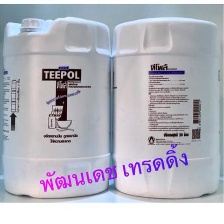cleaning_solution: (0, 13, 115, 201), (109, 15, 223, 202)
